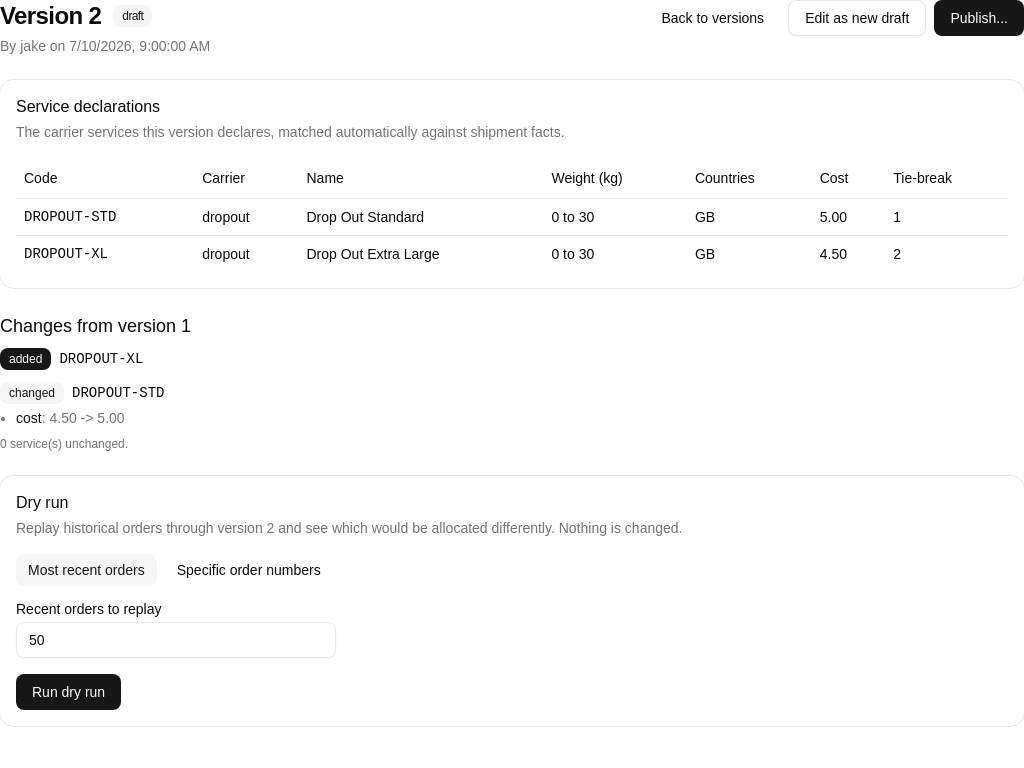
Test: VersionPage › warns in the publish confirmation when no dry run has been executed
The image size is (1024, 768).
What coordinates should you click on to do the following:
click the button "Publish..."
I would click on:
 (979, 18)
Its box is [934, 0, 1023, 36].
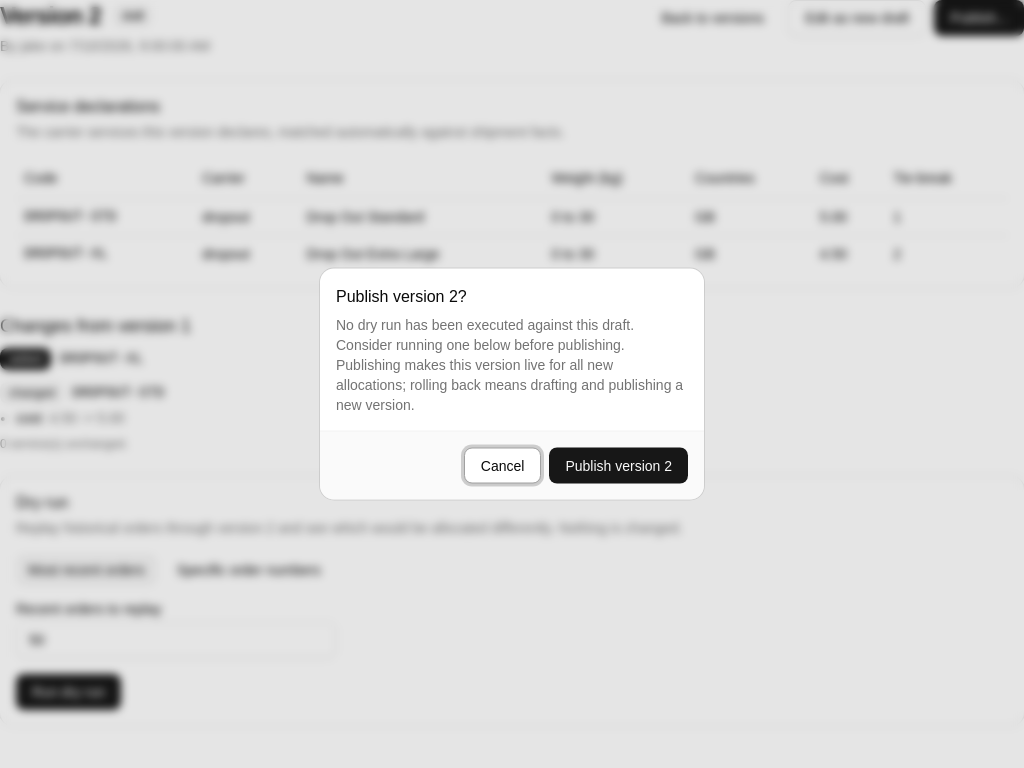
expect the dialog shows "No dry run has been executed": met, box [336, 316, 634, 352]
